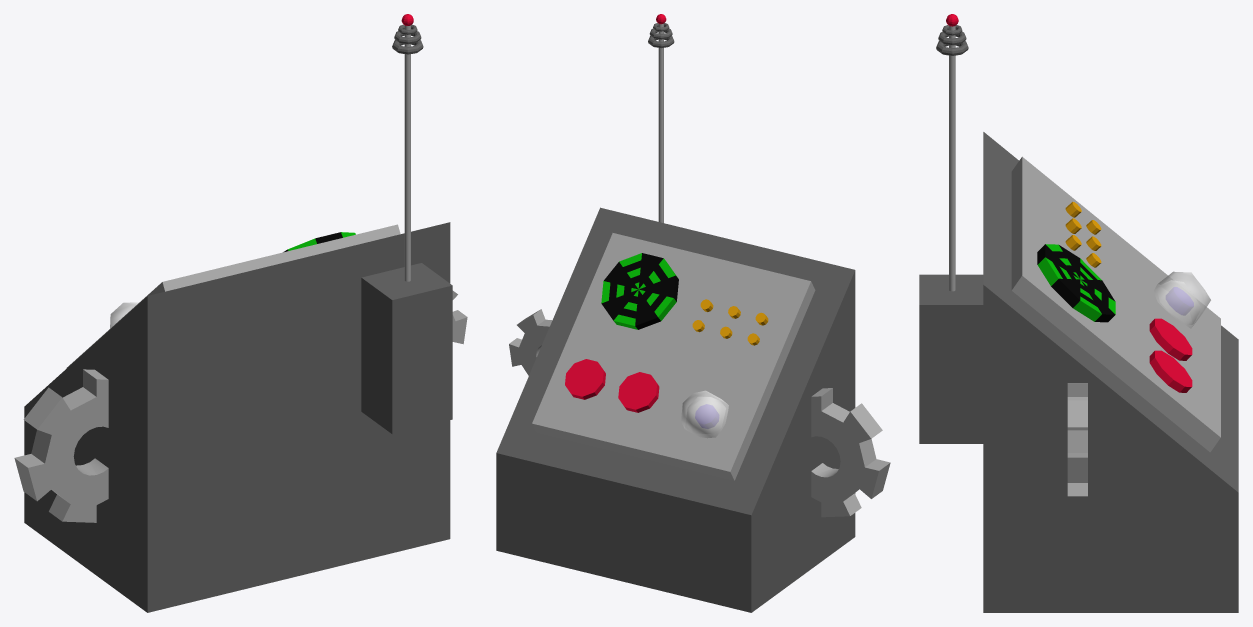
Rendered from console.fbx.
3 renders of one model, left to right at view 1: azimuth 30°, elevation 25°; view 2: azimuth 150°, elevation 25°; view 3: azimuth 270°, elevation 25°, orthographic. The views are drawn at different scales.
Parts seen in each view (by area): view 1: pCube1, pCube5, pCylinder17, pCylinder14; view 2: pCube1, pCylinder17, pCylinder3, pCube4, pCylinder18, pCylinder5, pCylinder4, pCylinder14, pCylinder13; view 3: pCube1, pCube5, pCylinder3, pCylinder18, pCube4, pCylinder14, pCylinder5, pCylinder4, pCylinder13, pCylinder6.
Part boxes in pixels (x1,y1,x2,y2): pCube1: [24, 222, 450, 612]; pCube5: [361, 263, 452, 434]; pCylinder17: [14, 369, 108, 522]; pCylinder14: [404, 25, 410, 281]; pCube1: [496, 207, 855, 612]; pCylinder17: [811, 388, 890, 517]; pCylinder3: [601, 253, 678, 329]; pCube4: [681, 390, 728, 438]; pCylinder18: [509, 309, 552, 375]; pCylinder5: [618, 372, 659, 412]; pCylinder4: [565, 359, 605, 399]; pCylinder14: [658, 23, 663, 222]; pCylinder13: [692, 299, 768, 345]; pCube1: [983, 132, 1238, 612]; pCube5: [919, 274, 983, 443]; pCylinder3: [1037, 244, 1115, 322]; pCylinder18: [1067, 383, 1087, 496]; pCube4: [1154, 271, 1210, 328]; pCylinder14: [949, 26, 955, 291]; pCylinder5: [1149, 318, 1192, 360]; pCylinder4: [1149, 350, 1192, 392]; pCylinder13: [1065, 201, 1101, 267]; pCylinder6: [1166, 287, 1193, 314].
Bounding box in the file's own units: 135 × 161 × 81.77.
